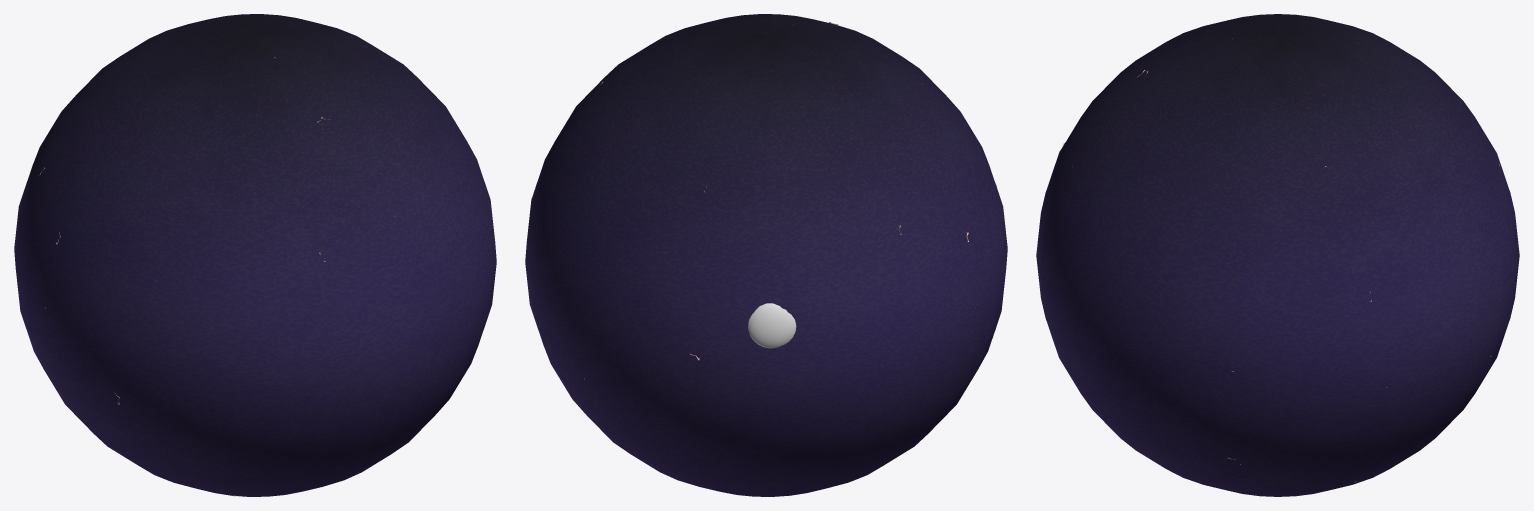
The model's file is MoonBaseSkyBox.fbx.
The picture shows the model from 3 angles, left to right: view 1: azimuth 30°, elevation 25°; view 2: azimuth 150°, elevation 25°; view 3: azimuth 270°, elevation 25°; orthographic projection.
Parts seen in each view (by area): view 1: Skybox; view 2: Skybox; view 3: Skybox.
Boxes of the visible parts, x1=… form: Skybox: x1=14, y1=14, x2=496, y2=496; Skybox: x1=525, y1=14, x2=1007, y2=496; Skybox: x1=1036, y1=14, x2=1519, y2=496.
Size of the model in its own units: 1825 by 1825 by 1825.
